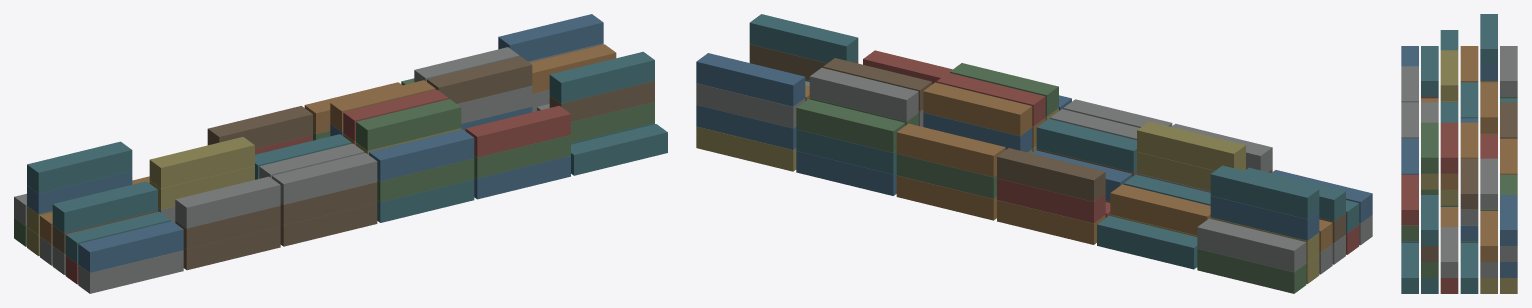
File: container_stack_9.glb
3 views of the same model, side by side, from view 1: azimuth 30°, elevation 25°; view 2: azimuth 150°, elevation 25°; view 3: azimuth 270°, elevation 25° (orthographic). The views are drawn at different scales.
Visible parts, largest first — view 1: LOD0; view 2: LOD0; view 3: LOD0.
Boxes of the visible parts, left/top/right/bottom form: LOD0: left=14, top=14, right=667, bottom=293; LOD0: left=696, top=14, right=1372, bottom=293; LOD0: left=1401, top=14, right=1517, bottom=293.
Size of what is drawn, in the model's own units: 75.2 by 10.38 by 17.1.
